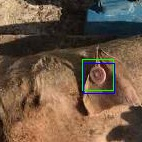text: (82, 59, 113, 90)
